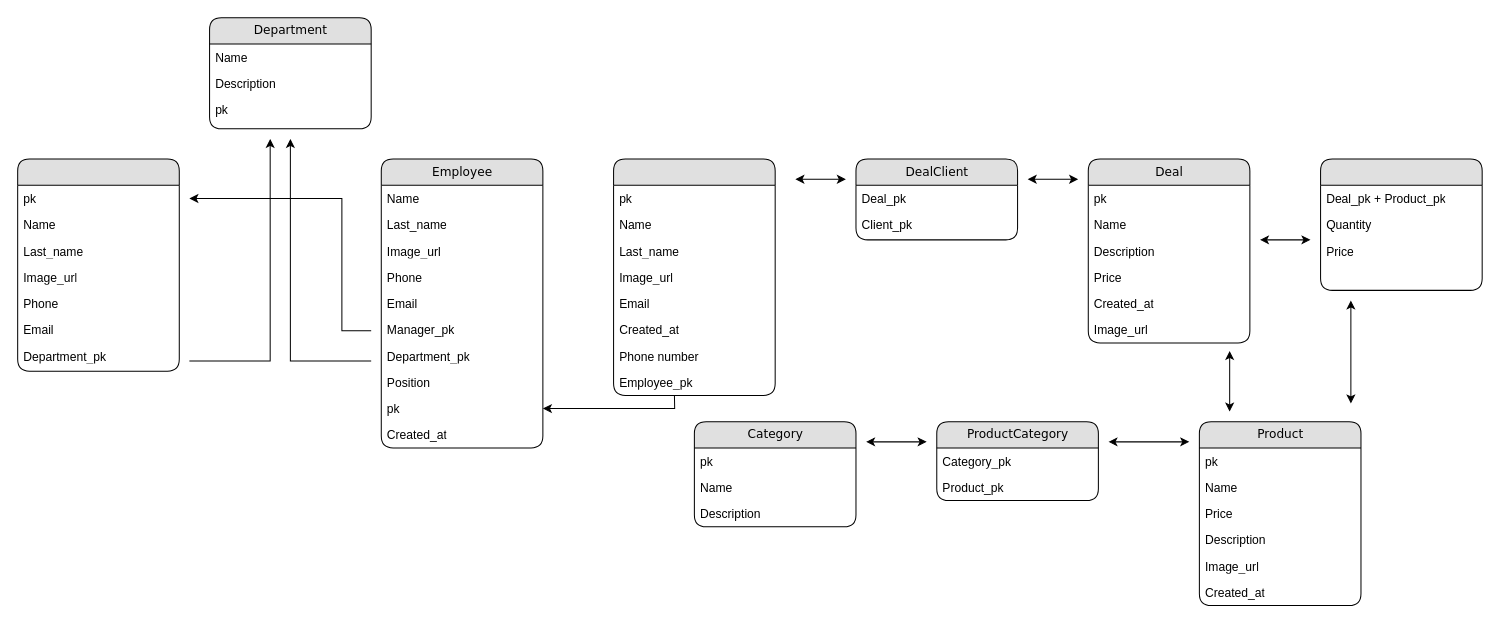
Image size: 1500x626. Some labels were removed from this diagram. Each missing label, with the box of its shape:
Client: (613, 158, 775, 395)
DealProduct: (1320, 158, 1482, 290)
Manager: (17, 158, 179, 371)
